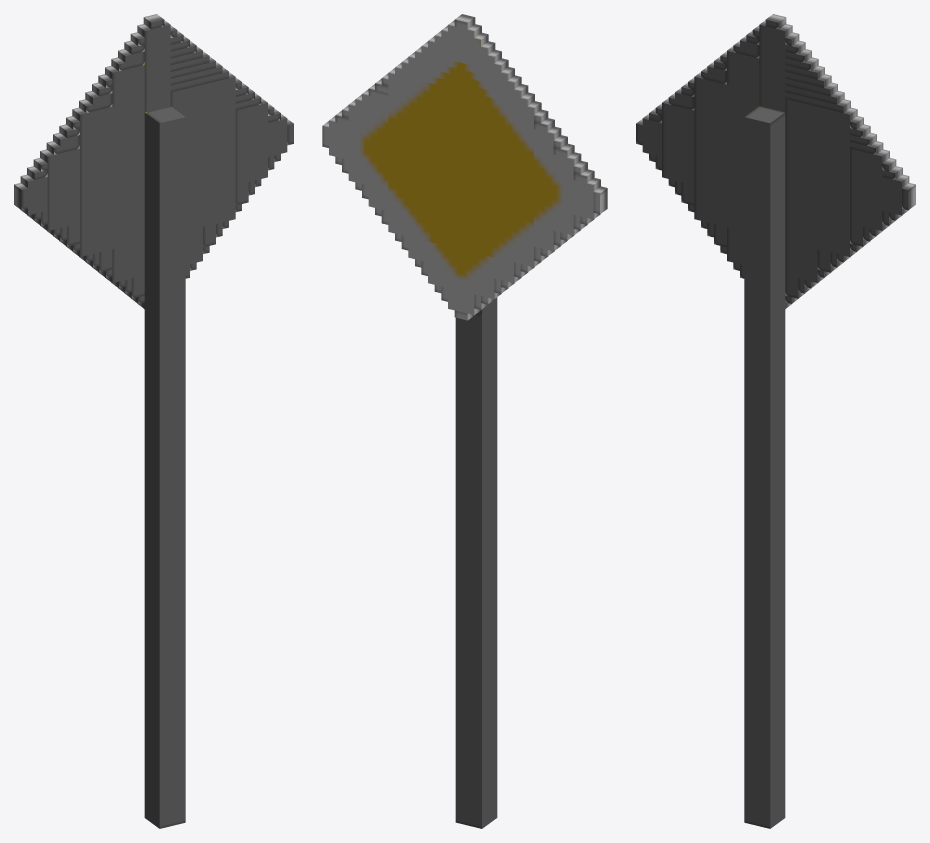
3 renders of one model, left to right at view 1: azimuth 30°, elevation 25°; view 2: azimuth 150°, elevation 25°; view 3: azimuth 330°, elevation 25°, orthographic. The views are drawn at different scales.
Parts seen in each view (by area): view 1: Content; view 2: Content; view 3: Content.
Boxes of the visible parts, x1,y1,x2,y2 form: Content: [14, 14, 293, 828]; Content: [322, 14, 607, 828]; Content: [636, 14, 915, 828].
Size of the model in its own units: 42 by 117 by 6.
Materials: 1 (1 with a texture image).
